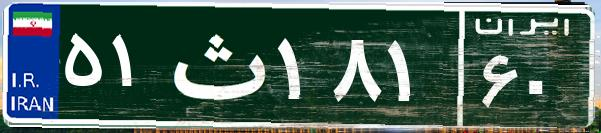0: (525, 38, 570, 115)
1: (385, 28, 445, 110), (273, 28, 330, 110), (110, 28, 158, 105)
5: (57, 26, 110, 107)
6: (475, 38, 525, 113)
8: (330, 28, 385, 110)
ث: (158, 15, 273, 115)
